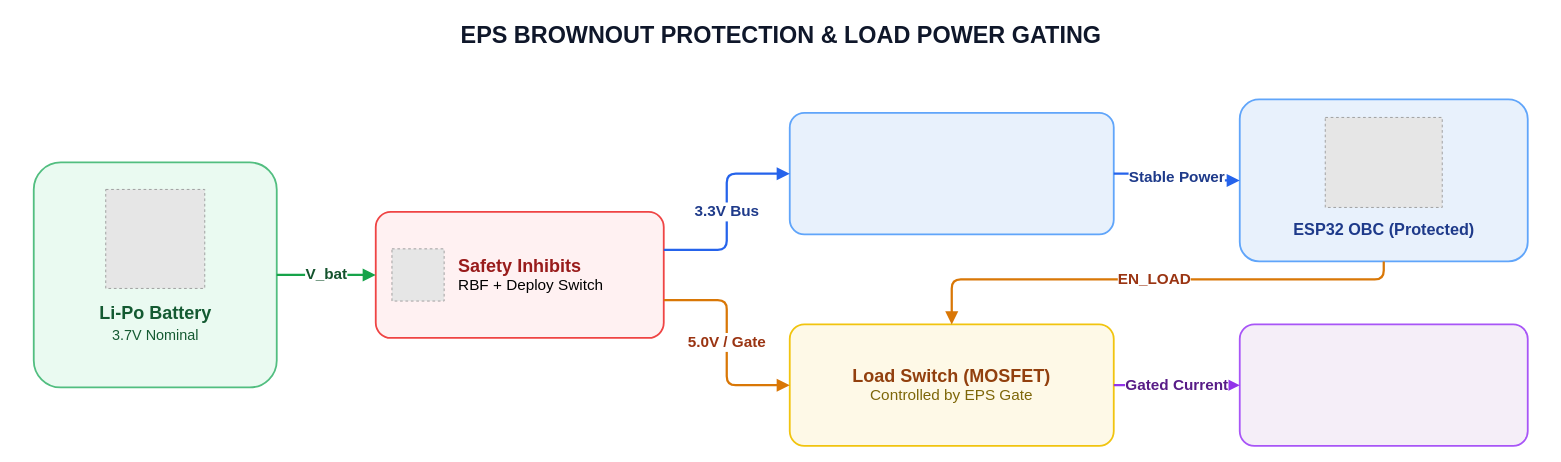
The diagram is 1561 pixels wide and 462 high, and some of its shapes have lost their labels. Grey dashed boxes stand in for pictures. The box of each missing label's shape, as (x1, y1, x2, y2) in pixels:
3.3V OBC Rail Always-On Buck + Brownout Cap: (788, 112, 1114, 235)
High-Peak Loads OV2640 Camera • LoRa TX: (1238, 323, 1528, 446)
